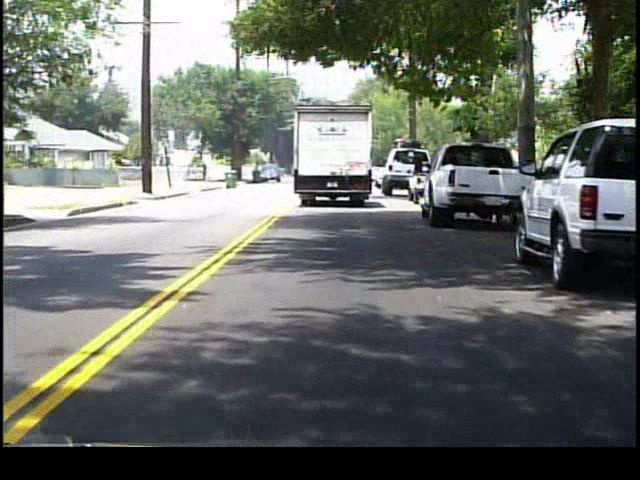person: (201, 162, 211, 184)
